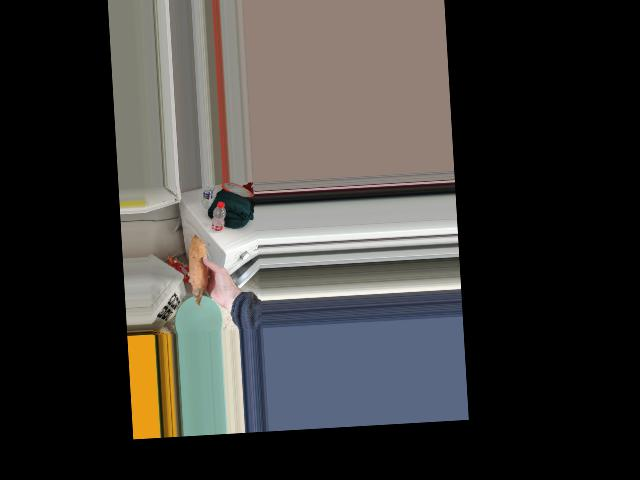sweet_potato: (188, 236, 208, 298)
